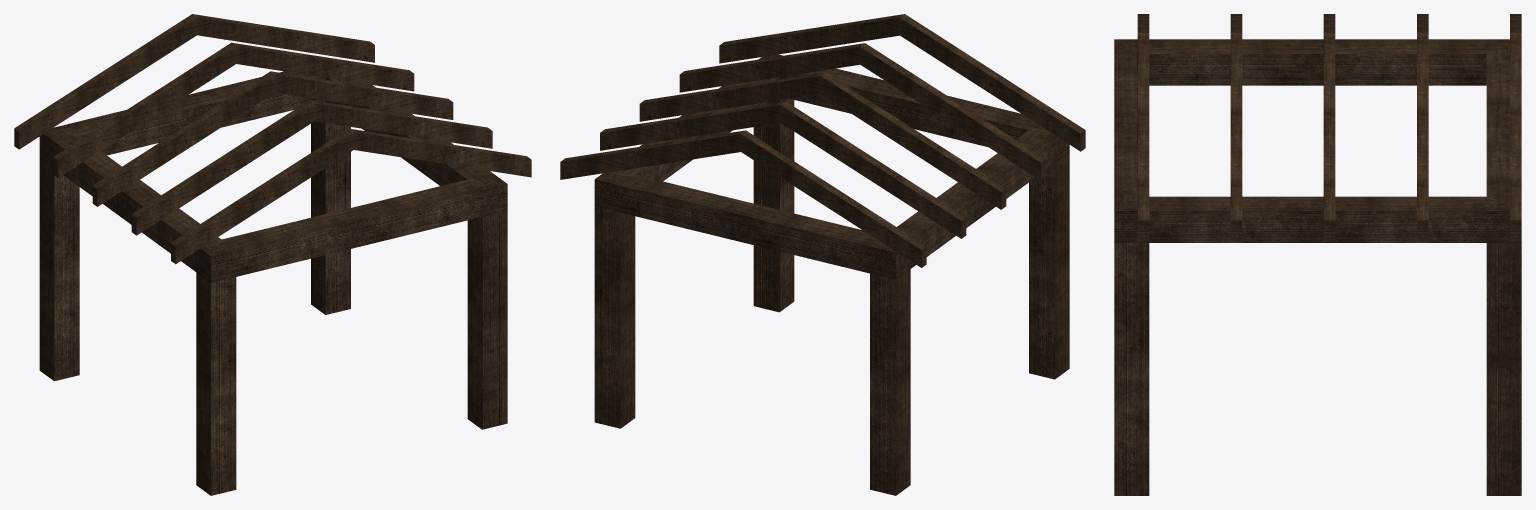
Rendered from weatherford-grill.obj.
3 views of the same model, side by side, from view 1: azimuth 30°, elevation 25°; view 2: azimuth 150°, elevation 25°; view 3: azimuth 270°, elevation 25° (orthographic). The views are drawn at different scales.
Visible parts, largest first — view 1: entity0_brush5, entity0_brush4, entity0_brush6, entity0_brush0, entity0_brush3, entity0_brush1, entity0_brush2, entity0_brush15, entity0_brush11, entity0_brush13, entity0_brush9, entity0_brush17 (+6 smaller); view 2: entity0_brush1, entity0_brush2, entity0_brush0, entity0_brush4, entity0_brush3, entity0_brush5, entity0_brush6, entity0_brush11, entity0_brush13, entity0_brush15, entity0_brush9, entity0_brush17 (+6 smaller); view 3: entity0_brush7, entity0_brush3, entity0_brush2, entity0_brush6, entity0_brush5, entity0_brush1, entity0_brush12, entity0_brush14, entity0_brush16, entity0_brush8, entity0_brush10.
Part boxes in pixels (x1,y1,x2,y2): entity0_brush5: (211, 179, 507, 282); entity0_brush4: (196, 272, 236, 495); entity0_brush6: (467, 210, 507, 429); entity0_brush0: (39, 158, 79, 381); entity0_brush3: (39, 132, 221, 282); entity0_brush1: (47, 71, 325, 155); entity0_brush2: (311, 121, 350, 314); entity0_brush15: (131, 100, 314, 235); entity0_brush11: (53, 42, 236, 178); entity0_brush13: (92, 71, 275, 206); entity0_brush9: (14, 14, 196, 149); entity0_brush17: (171, 129, 353, 264); entity0_brush1: (594, 174, 895, 279); entity0_brush2: (594, 206, 635, 428); entity0_brush0: (870, 269, 910, 495); entity0_brush4: (1029, 153, 1069, 379); entity0_brush3: (895, 128, 1069, 279); entity0_brush5: (771, 54, 1043, 147); entity0_brush6: (753, 98, 794, 312); entity0_brush11: (780, 101, 966, 238); entity0_brush13: (820, 72, 1006, 209); entity0_brush15: (860, 43, 1045, 180); entity0_brush9: (741, 130, 926, 267); entity0_brush17: (900, 14, 1085, 151); entity0_brush7: (1114, 196, 1521, 242); entity0_brush3: (1115, 39, 1509, 85); entity0_brush2: (1486, 243, 1521, 495); entity0_brush6: (1114, 243, 1149, 495); entity0_brush5: (1114, 39, 1137, 211); entity0_brush1: (1486, 44, 1509, 206); entity0_brush12: (1323, 33, 1335, 241); entity0_brush14: (1230, 33, 1242, 241); entity0_brush16: (1137, 33, 1149, 241); entity0_brush8: (1510, 33, 1521, 241); entity0_brush10: (1417, 33, 1428, 241).
Bounding box in the file's own units: 336 × 288 × 280.
1 material, 1 textured.
